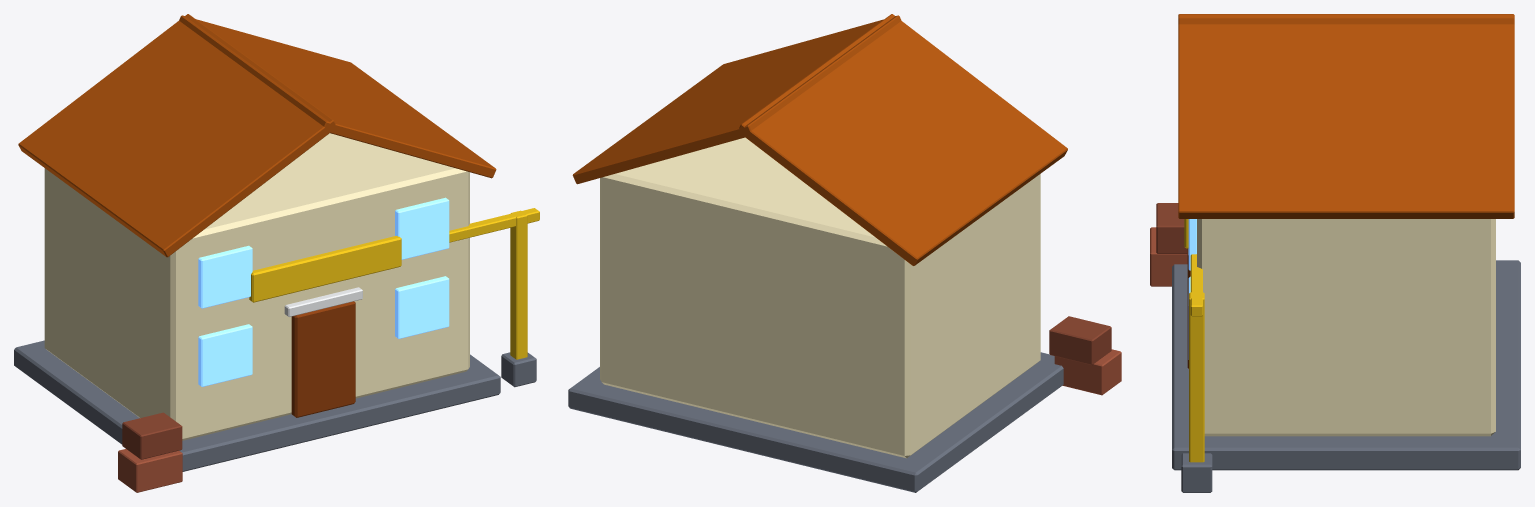
Rendered from office.glb.
The picture shows the model from 3 angles, left to right: view 1: azimuth 30°, elevation 25°; view 2: azimuth 150°, elevation 25°; view 3: azimuth 270°, elevation 25°; orthographic projection. The views are drawn at different scales.
Parts seen in each view (by area): view 1: g_m_fef3c7, g_m_b45309, g_m_6b7280, g_m_93c5fd_e, g_m_facc15, g_m_92400e, g_m_8b4630, g_m_a5543a, g_m_f8fafc; view 2: g_m_fef3c7, g_m_b45309, g_m_6b7280, g_m_8b4630, g_m_a5543a; view 3: g_m_b45309, g_m_fef3c7, g_m_6b7280, g_m_facc15, g_m_8b4630, g_m_a5543a, g_m_93c5fd_e.
Part boxes in pixels (x1,y1,x2,y2): g_m_fef3c7: (44, 133, 469, 440); g_m_b45309: (18, 14, 496, 257); g_m_6b7280: (14, 340, 536, 471); g_m_93c5fd_e: (198, 197, 449, 386); g_m_facc15: (249, 208, 539, 359); g_m_92400e: (291, 301, 355, 417); g_m_8b4630: (122, 412, 182, 459); g_m_a5543a: (118, 449, 182, 492); g_m_f8fafc: (284, 287, 362, 316); g_m_fef3c7: (600, 137, 1040, 458); g_m_b45309: (572, 14, 1067, 265); g_m_6b7280: (568, 352, 1063, 492); g_m_8b4630: (1049, 316, 1111, 364); g_m_a5543a: (1054, 349, 1121, 395); g_m_b45309: (1178, 14, 1514, 218); g_m_fef3c7: (1197, 219, 1495, 436); g_m_6b7280: (1172, 260, 1520, 492); g_m_facc15: (1184, 219, 1204, 462); g_m_8b4630: (1156, 203, 1187, 253); g_m_a5543a: (1150, 227, 1187, 286); g_m_93c5fd_e: (1188, 219, 1196, 359).
Size of the model in its own units: 9 by 6.39 by 5.95.
